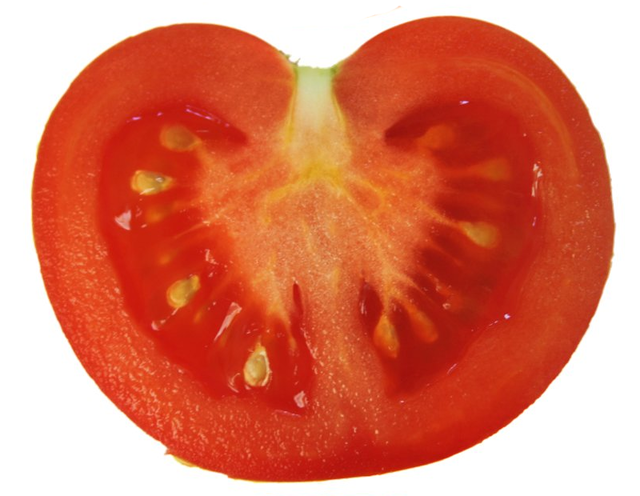tomato: (31, 19, 616, 480)
